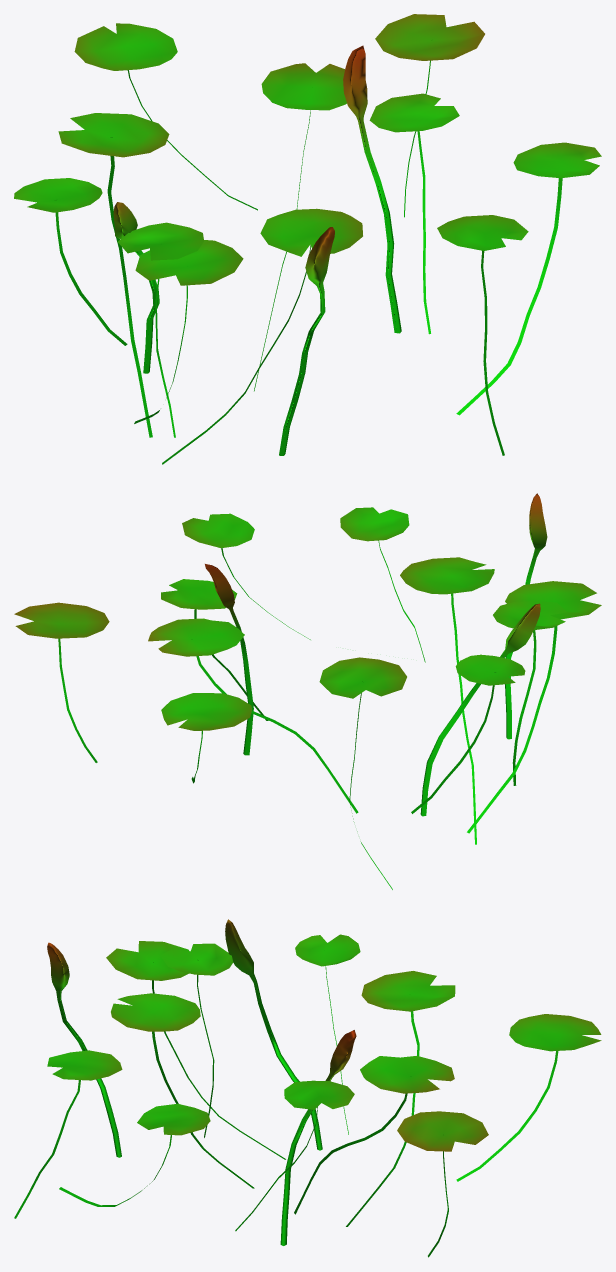
The model's file is SM_Fleur03_eau.fbx.
The picture shows the model from 3 angles, top to bottom: view 1: azimuth 30°, elevation 25°; view 2: azimuth 150°, elevation 25°; view 3: azimuth 270°, elevation 25°; orthographic projection. The views are drawn at different scales.
Visible parts, largest first — view 1: _d654_Var3_LOD1; view 2: _d654_Var3_LOD1; view 3: _d654_Var3_LOD1.
Boxes of the visible parts, left/top/right/bottom form: _d654_Var3_LOD1: left=14, top=14, right=601, bottom=464; _d654_Var3_LOD1: left=14, top=493, right=601, bottom=889; _d654_Var3_LOD1: left=14, top=919, right=601, bottom=1257.
Size of the model in its own units: 133 by 81.73 by 152.
